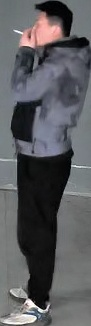smoking: (4, 0, 82, 100)
